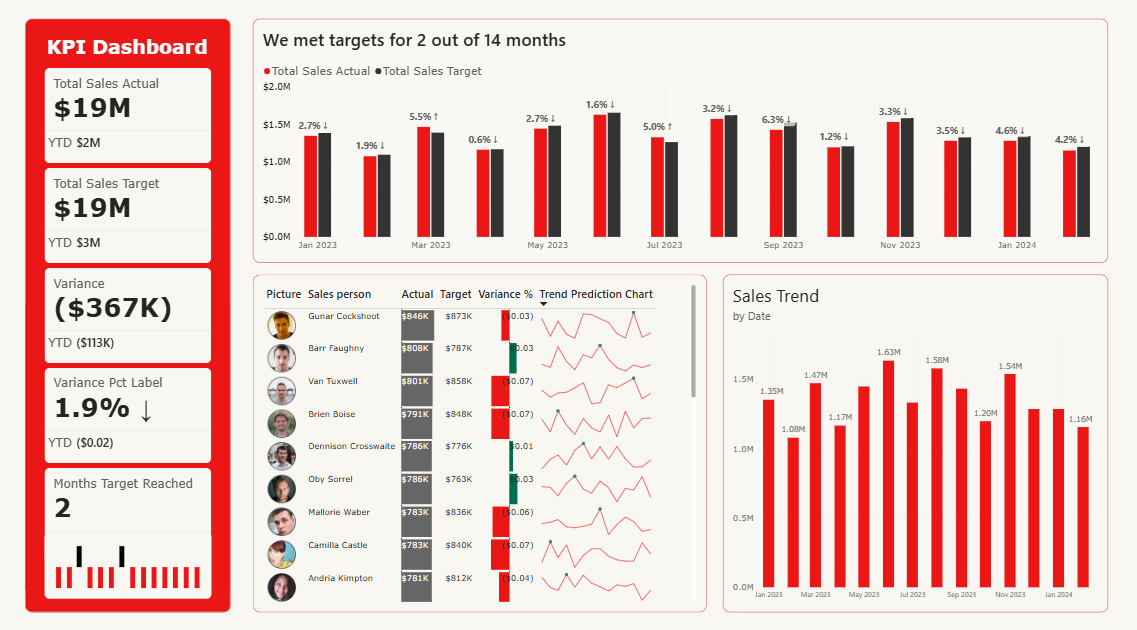

The page's visual inventory and layout, read from the dashboard file:
{"tool":"powerbi","page":{"name":"KPI Dashboard","canvas":[1920,1080],"ordinal":0},"visuals":[{"type":"shape","box":[42.5,40,345,997.5],"z":0},{"type":"cardVisual","fields":{"Data":["Actual.TotalSalesActual","Targets.TotalSalesTarget","Actual.Variance","Actual.Variance Pct Label","Actual.MonthsTargetReached"]},"box":[75,122.5,280,835],"z":1000},{"type":"hundredPercentStackedColumnChart","fields":{"Category":["Calendar.Date"],"Y":["Actual.TargetStatus"]},"box":[75,902.5,280,112.5],"z":2000},{"type":"textbox","box":[62.5,67.5,302.5,55],"z":3000},{"type":"lineClusteredColumnComboChart","fields":{"Category":["Calendar.Date"],"Y":["Actual.Total Sales Actual","Targets.Total Sales Target"]},"box":[425,40,1437.5,410],"z":4000},{"type":"tableEx","fields":{"Values":["dimPeople.Picture","dimPeople.Sales person","Actual.Total Sales Actual","Targets.Total Sales Target","Actual.Variance %","SparklineData(Actual.Total Sales Actual_[Calendar.Date])"]},"box":[425,470,762.5,567.5],"z":5000},{"type":"clusteredColumnChart","fields":{"Category":["Calendar.Date"],"Y":["Sum(Actual.Sales)"]},"box":[1215,470,647.5,567.5],"z":5001}]}

Visuals, with their boxes in screenshot pixels (x1, y1, x2, y2), scaled from the page's 1920x1080 canvas onto the 1137x630 screenshot:
shape: left=25, top=23, right=229, bottom=605
cardVisual - Actual.TotalSalesActual x Targets.TotalSalesTarget: left=44, top=71, right=210, bottom=559
hundredPercentStackedColumnChart - Calendar.Date x Actual.TargetStatus: left=44, top=526, right=210, bottom=592
textbox: left=37, top=39, right=216, bottom=71
lineClusteredColumnComboChart - Calendar.Date x Actual.Total Sales Actual: left=252, top=23, right=1103, bottom=262
tableEx - dimPeople.Picture x dimPeople.Sales person: left=252, top=274, right=703, bottom=605
clusteredColumnChart - Calendar.Date x Sum(Actual.Sales): left=720, top=274, right=1103, bottom=605
